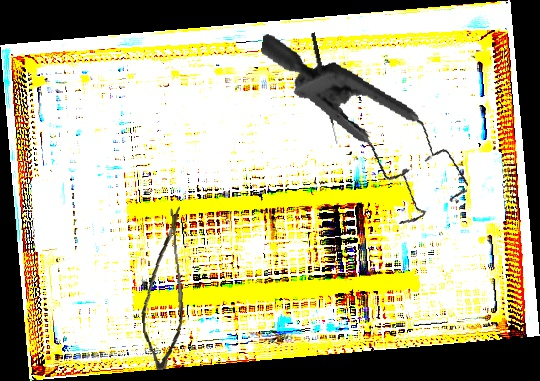Hook Surgical: (309, 32, 341, 145)
Micro Scissor: (130, 205, 197, 372)
Speculum: (235, 33, 488, 235)
